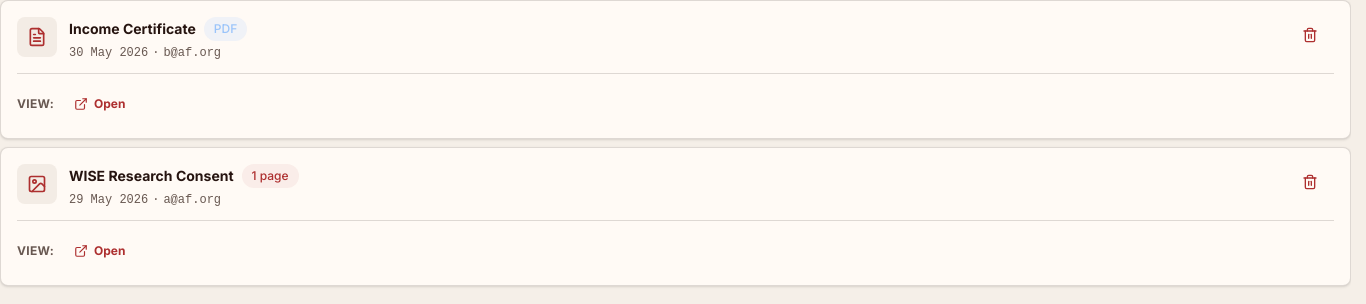
Scenario: DocumentsList › deletes a document via DELETE and refetches
The width and height of the screenshot is (1366, 304).
Expected: the heading "Income Certificate" is shown, left=69, top=19, right=196, bottom=39
Click the button named "delete income certificate".
click(1310, 35)  # box left=1286, top=17, right=1334, bottom=53
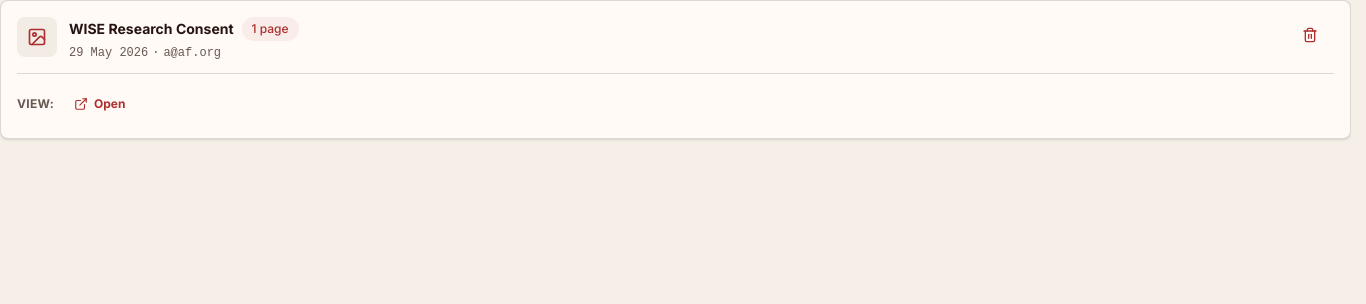
Expected: the heading "WISE Research Consent" is shown, left=69, top=19, right=234, bottom=39
Expected: the heading "Income Certificate" is gone
